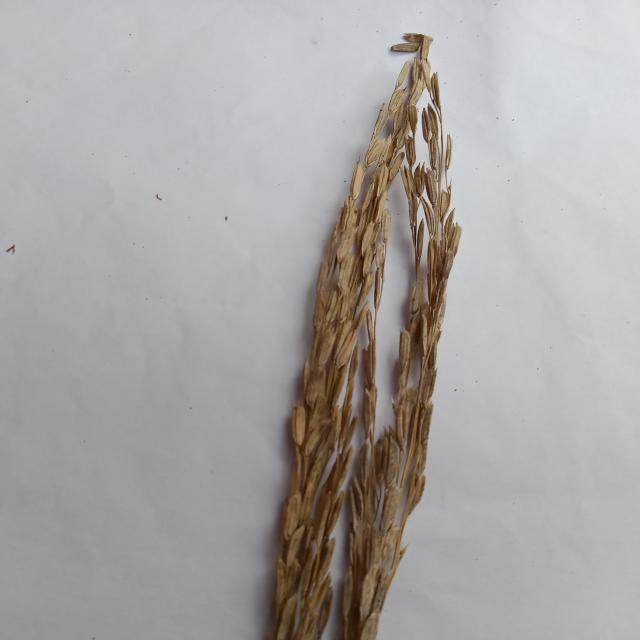Neck_Blast: (272, 54, 426, 639), (337, 38, 464, 640)
